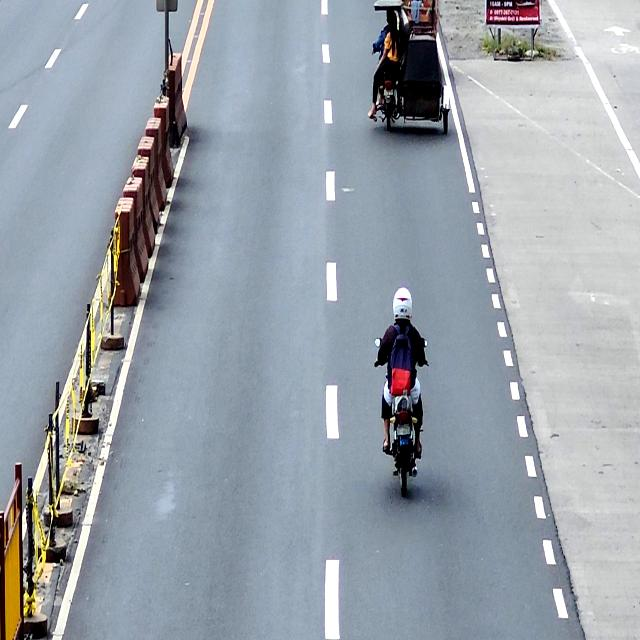License-Plate: (394, 420, 414, 437), (382, 85, 394, 97)
Motorcycle: (374, 332, 428, 498)
Tricycle: (369, 1, 454, 142)
